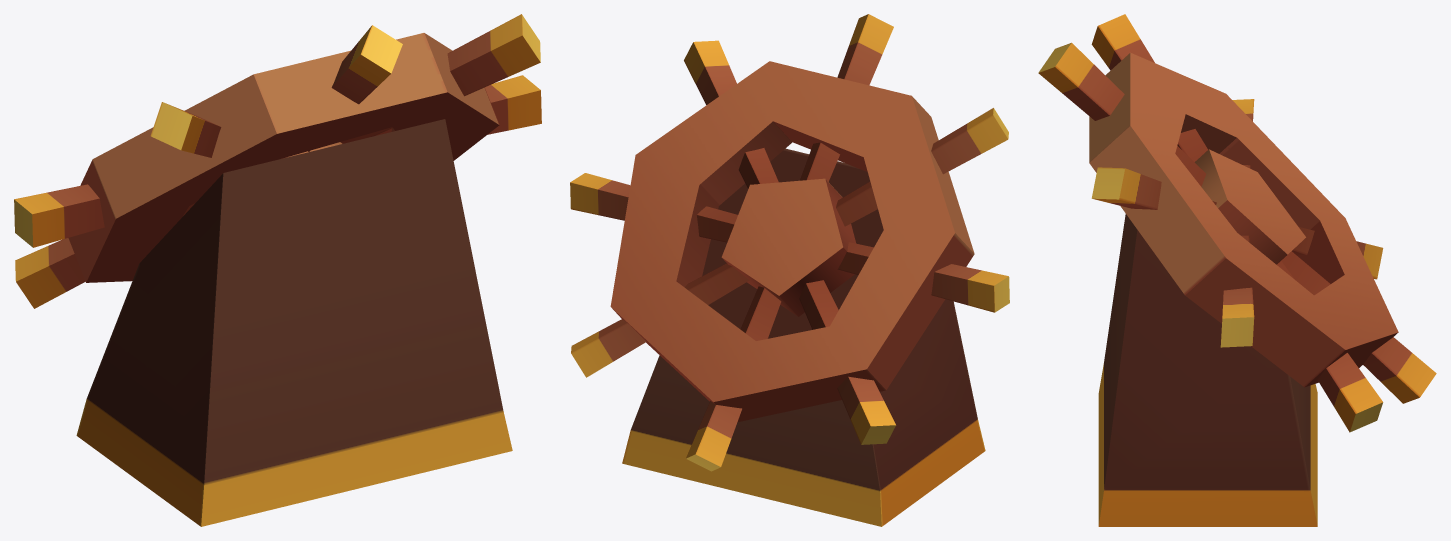
The model's file is Pirate_Ship_We_Rudder_001.FBX.
3 renders of one model, left to right at view 1: azimuth 30°, elevation 25°; view 2: azimuth 150°, elevation 25°; view 3: azimuth 270°, elevation 25°, orthographic. The views are drawn at different scales.
Visible parts, largest first — view 1: Pirate_Ship_We_Rudder_001; view 2: Pirate_Ship_We_Rudder_001; view 3: Pirate_Ship_We_Rudder_001.
Boxes of the visible parts, x1,y1,x2,y2 form: Pirate_Ship_We_Rudder_001: (14, 14, 541, 526); Pirate_Ship_We_Rudder_001: (570, 14, 1009, 526); Pirate_Ship_We_Rudder_001: (1038, 14, 1436, 526).
Size of the model in its own units: 4.53 by 4.04 by 3.5.
